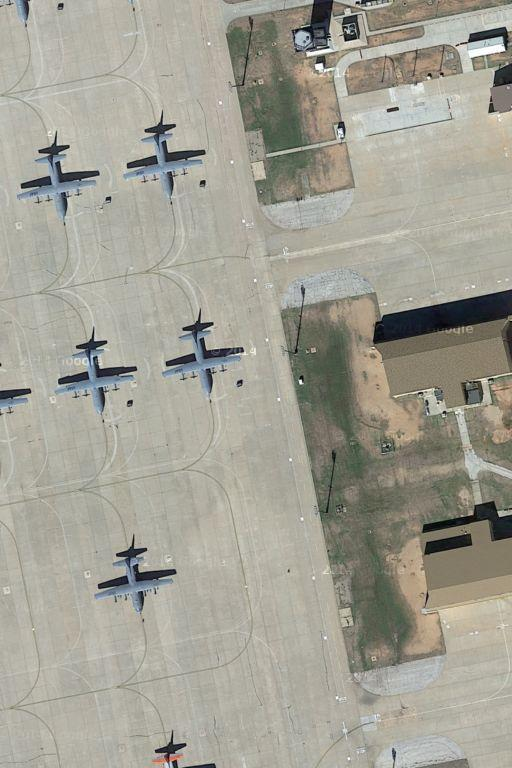C-130: (13, 150, 102, 221), (49, 346, 136, 417), (160, 329, 245, 398), (85, 551, 178, 614), (123, 131, 204, 202)
